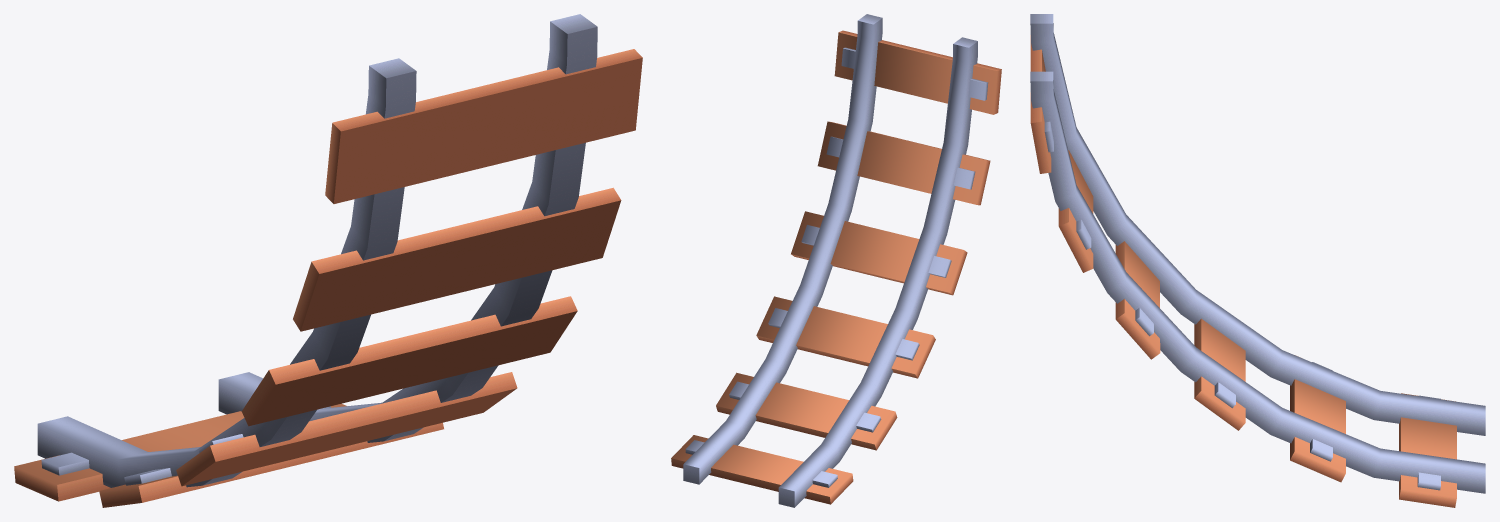
File: railroad-straight-bend.glb
3 views of the same model, side by side, from view 1: azimuth 30°, elevation 25°; view 2: azimuth 150°, elevation 25°; view 3: azimuth 270°, elevation 25° (orthographic). The views are drawn at different scales.
Visible parts, largest first — view 1: railroad-straight-bend; view 2: railroad-straight-bend; view 3: railroad-straight-bend.
Part boxes in pixels (left/top/right/bottom): railroad-straight-bend: left=14, top=14, right=642, bottom=507; railroad-straight-bend: left=671, top=14, right=1001, bottom=507; railroad-straight-bend: left=1030, top=14, right=1485, bottom=507.
Bounding box in the file's own units: 1 × 2 × 2.
1 material, 1 textured.
